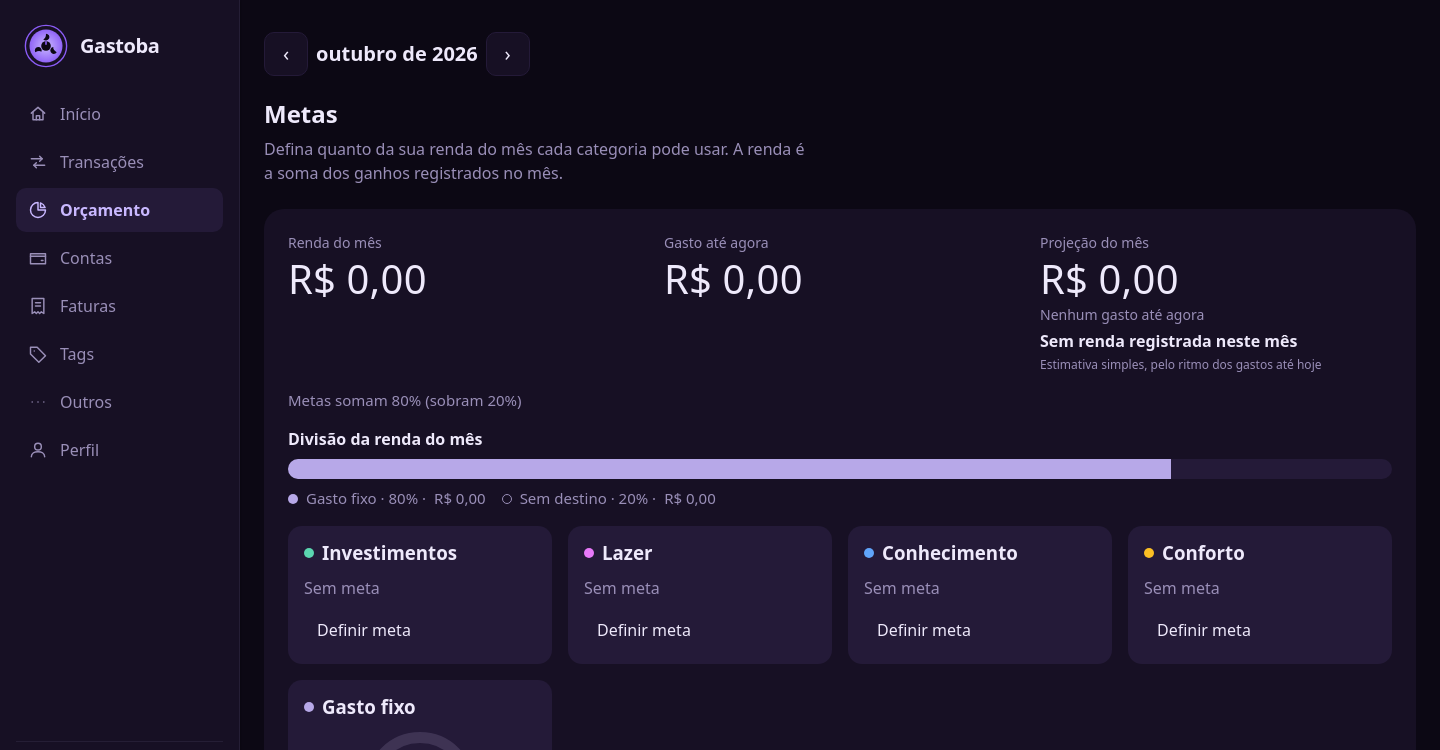
Test: Orcamento › a barra deslizante também avisa quando a soma passa de 100%
Check: the list item "Lazer" is shown, box [568, 526, 832, 664]
Click the button with aria-label "Definir meta de Lazer" at (644, 630), box [584, 612, 704, 648]
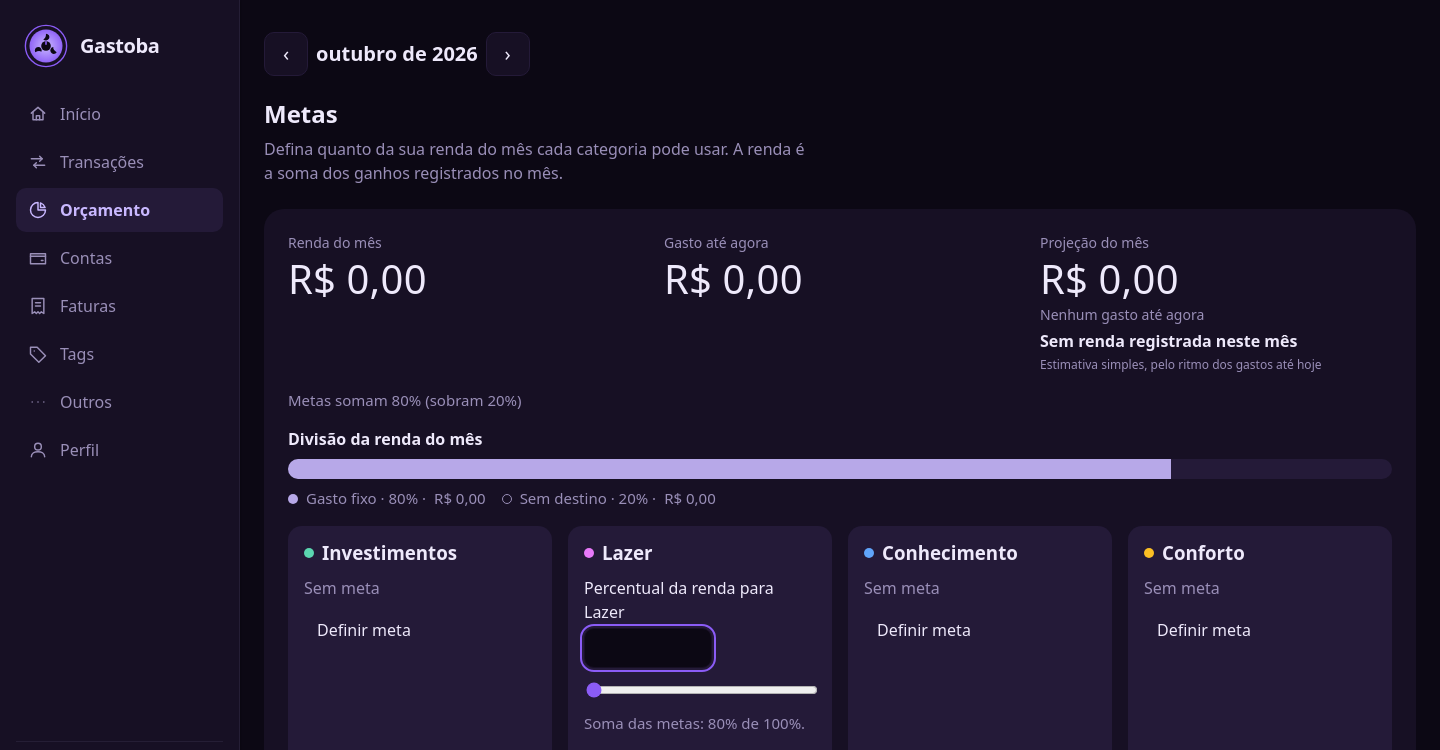
Set the slider named "Ajustar o percentual de Lazer" to "30" at (657, 690), box [586, 678, 818, 702]
(page scrolled)
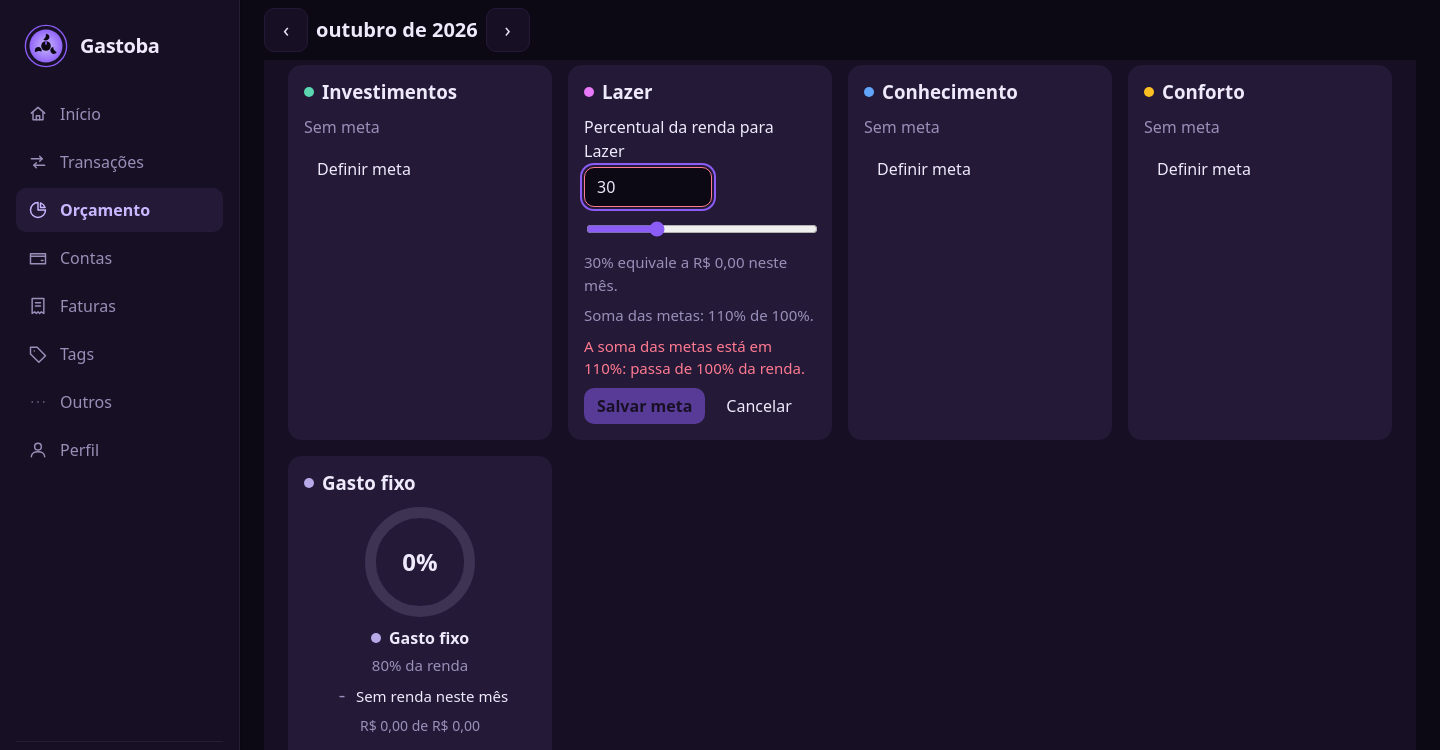
Check: the button "Salvar meta" is disabled, box [584, 388, 705, 424]
Check: the message shows "110%", box [584, 336, 805, 378]
